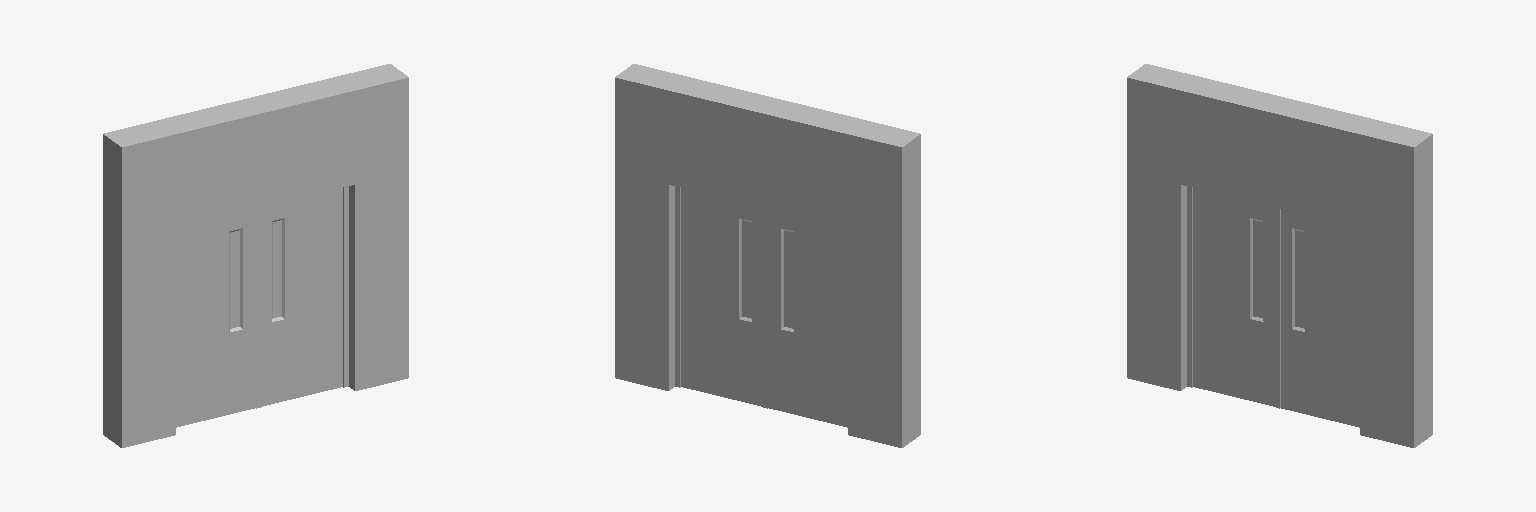
The model's file is brick_door.obj.
3 views of the same model, side by side, from view 1: azimuth 30°, elevation 25°; view 2: azimuth 150°, elevation 25°; view 3: azimuth 330°, elevation 25° (orthographic).
Visible parts, largest first — view 1: brick_door; view 2: brick_door; view 3: brick_door.
Boxes of the visible parts, x1,y1,x2,y2 form: brick_door: [103, 64, 408, 447]; brick_door: [615, 64, 920, 447]; brick_door: [1127, 64, 1432, 447].
Size of the model in its own units: 3.5 by 3.5 by 0.4.